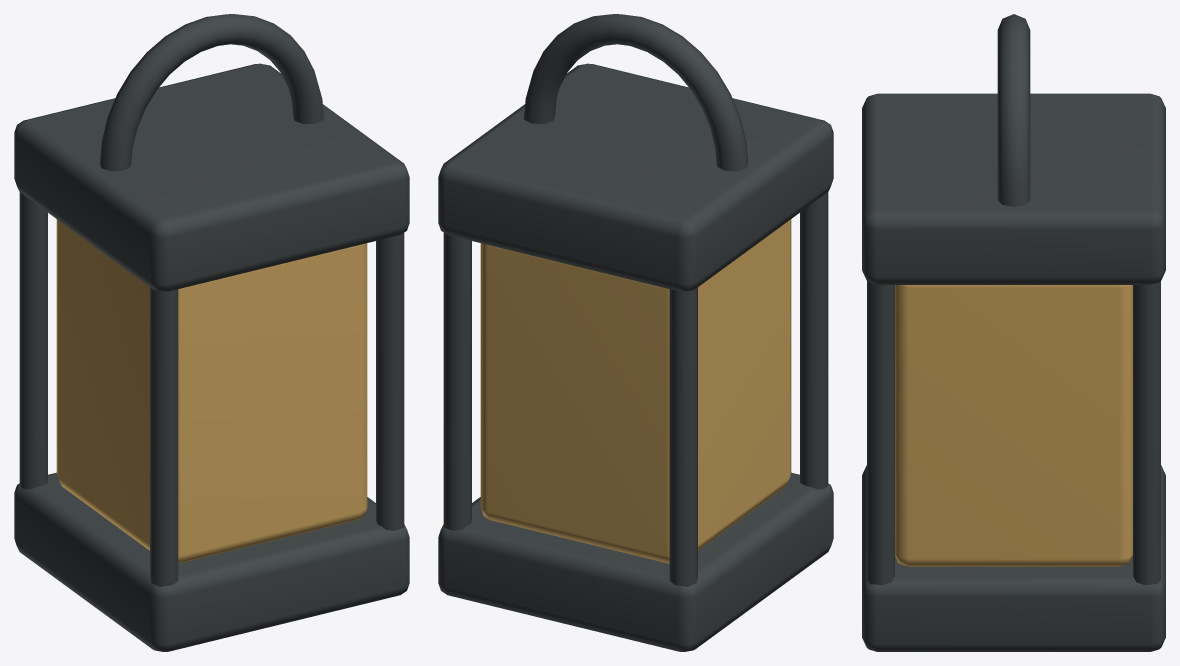
File: lantern.glb
3 views of the same model, side by side, from view 1: azimuth 30°, elevation 25°; view 2: azimuth 150°, elevation 25°; view 3: azimuth 270°, elevation 25° (orthographic).
Parts seen in each view (by area): view 1: Harbour Lantern; view 2: Harbour Lantern; view 3: Harbour Lantern.
Part boxes in pixels (left/top/right/bottom): Harbour Lantern: left=14, top=14, right=409, bottom=651; Harbour Lantern: left=438, top=14, right=833, bottom=651; Harbour Lantern: left=862, top=14, right=1165, bottom=651.
Bounding box in the file's own units: 0.24 × 0.4955 × 0.24.
